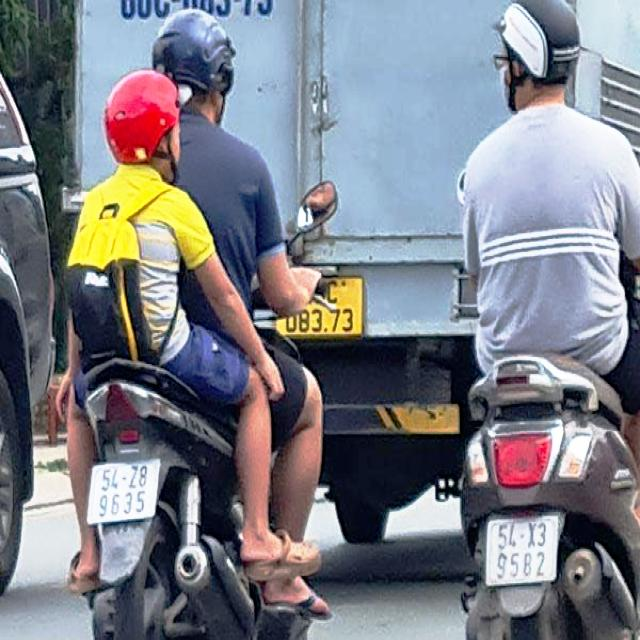license_plate: (486, 516, 561, 585), (89, 461, 161, 525)
